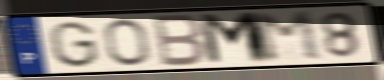8: (319, 10, 365, 61)
B: (152, 13, 209, 68)
G: (46, 19, 103, 69)
M: (196, 10, 272, 67), (250, 9, 327, 64)
O: (101, 17, 153, 68)
